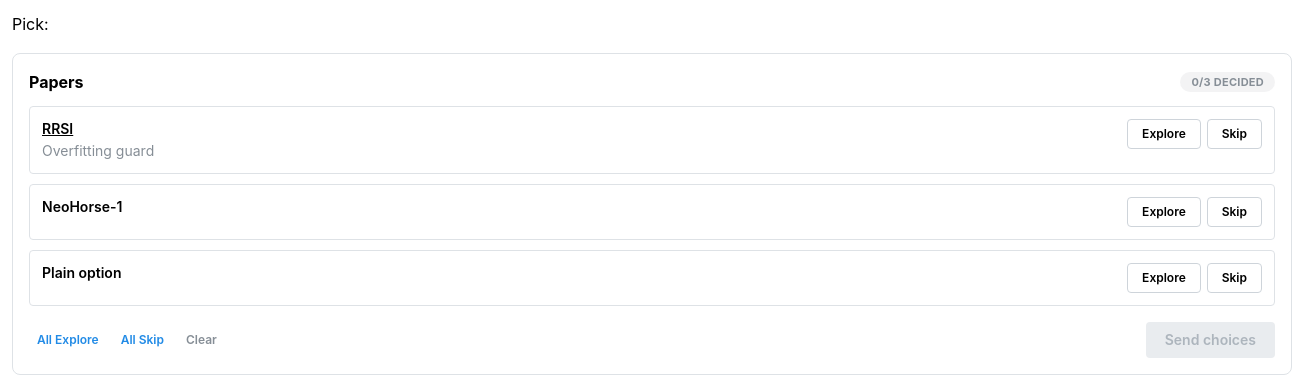
Scenario: picker in Markdown › renders buttons, links only safe URLs and sends the decisions
The width and height of the screenshot is (1292, 392).
Check: the button "Send choices" is disabled, box [1146, 322, 1275, 358]
Check: the number of links is 1, box [42, 120, 73, 137]
What coordinates should you click on to do the following:
click the button "Explore" in the row of "Overfitting guard"
I would click on:
 (1164, 134)
Its box is [1127, 119, 1201, 149].
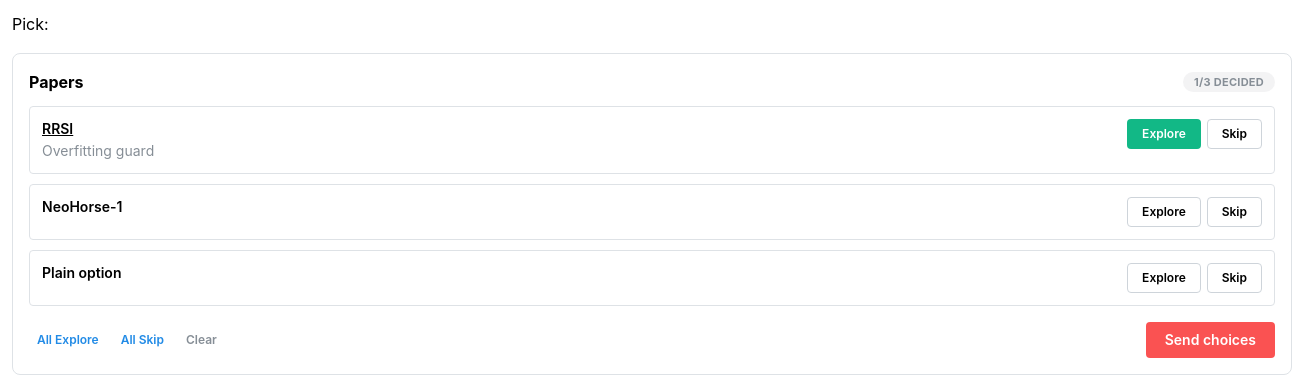
What coordinates should you click on to do the following:
click the button "Skip" in the row of "NeoHorse-1"
I would click on:
 (1234, 212)
Its box is [1207, 197, 1262, 227].
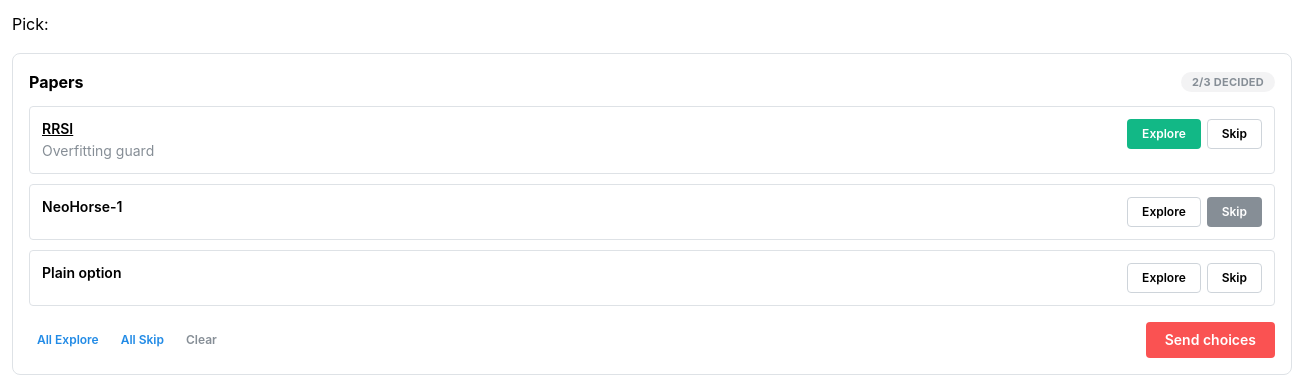
Check: the button "Explore" in the row of "Overfitting guard" is pressed, box [1127, 119, 1201, 149]
What coordinates should you click on to do the following:
click the button "Send choices"
I would click on:
 (1210, 340)
Its box is [1146, 322, 1275, 358].
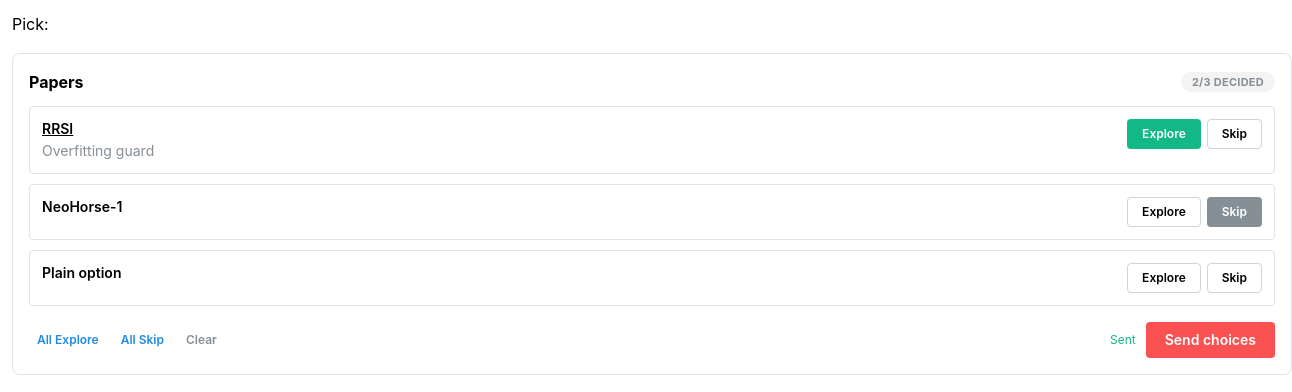
Check: the text "Sent" is shown, box [1110, 332, 1136, 349]
